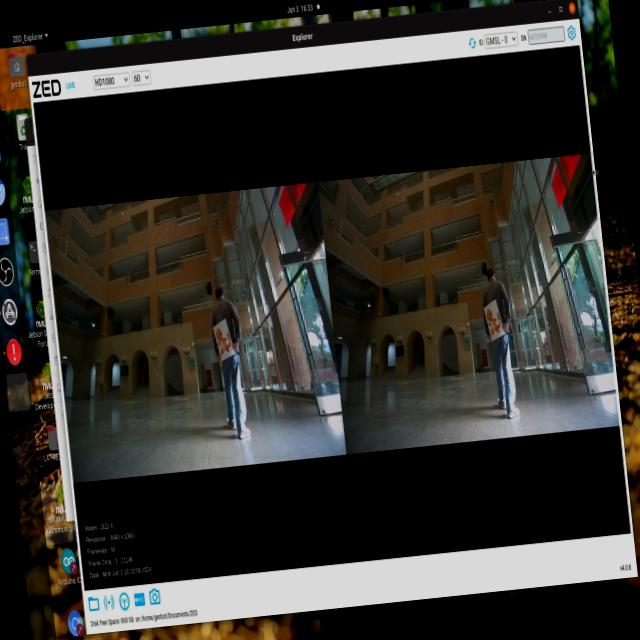red: (210, 322, 237, 366), (486, 297, 504, 340)
